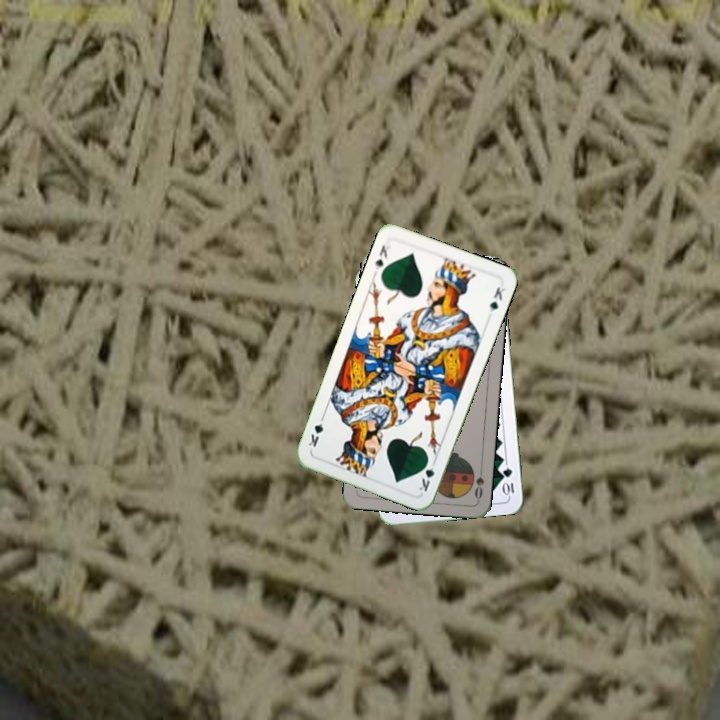G10: (499, 463, 517, 498)
GK: (415, 454, 438, 494), (370, 241, 393, 276)
SO: (470, 462, 487, 502)
